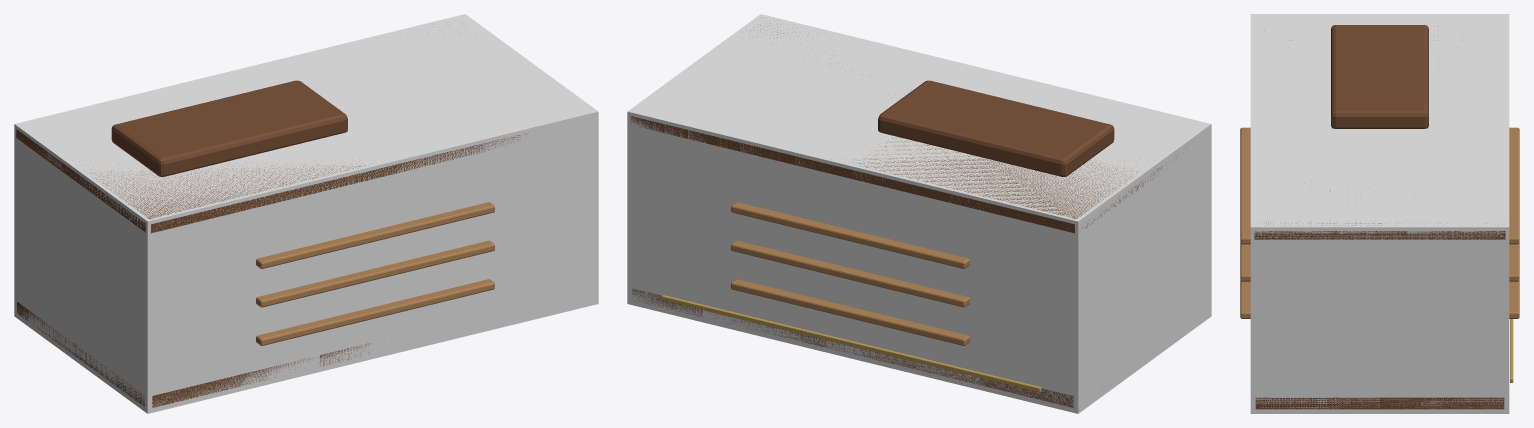
Rendered from luxury.glb.
The picture shows the model from 3 angles, left to right: view 1: azimuth 30°, elevation 25°; view 2: azimuth 150°, elevation 25°; view 3: azimuth 270°, elevation 25°; orthographic projection. The views are drawn at different scales.
Visible parts, largest first — view 1: COL_CHECKOUT_ISLANDS_LUXURY, CheckoutIsland_RaisedTillDeck.001, CheckoutIsland_Top.003, Island_ServiceShelf_1_1.002, Island_ServiceShelf_1_0.003, Island_ServiceShelf_1_2, CheckoutIsland_Base.003; view 2: COL_CHECKOUT_ISLANDS_LUXURY, CheckoutIsland_RaisedTillDeck.001, CheckoutIsland_Top.003, Island_ServiceShelf_-1_1.002, Island_ServiceShelf_-1_0.003, Island_ServiceShelf_-1_2, CheckoutIsland_Base.003, CheckoutIsland_BrassToeKick; view 3: COL_CHECKOUT_ISLANDS_LUXURY, CheckoutIsland_RaisedTillDeck.001, CheckoutIsland_Base.003, CheckoutIsland_Top.003, Island_ServiceShelf_-1_2, Island_ServiceShelf_1_2, Island_ServiceShelf_-1_0.003, Island_ServiceShelf_-1_1.002, Island_ServiceShelf_1_0.003, Island_ServiceShelf_1_1.002.
Boxes of the visible parts, x1,y1,x2,y2 form: COL_CHECKOUT_ISLANDS_LUXURY: [14, 14, 598, 413]; CheckoutIsland_RaisedTillDeck.001: [111, 80, 347, 176]; CheckoutIsland_Top.003: [16, 22, 524, 233]; Island_ServiceShelf_1_1.002: [256, 240, 494, 307]; Island_ServiceShelf_1_0.003: [256, 279, 494, 345]; Island_ServiceShelf_1_2: [256, 202, 494, 268]; CheckoutIsland_Base.003: [17, 302, 369, 407]; COL_CHECKOUT_ISLANDS_LUXURY: [627, 14, 1211, 413]; CheckoutIsland_RaisedTillDeck.001: [878, 80, 1114, 176]; CheckoutIsland_Top.003: [630, 18, 1186, 233]; Island_ServiceShelf_-1_1.002: [731, 240, 969, 307]; Island_ServiceShelf_-1_0.003: [731, 279, 969, 345]; Island_ServiceShelf_-1_2: [731, 202, 969, 268]; CheckoutIsland_Base.003: [632, 288, 1102, 407]; CheckoutIsland_BrassToeKick: [661, 295, 1041, 392]; COL_CHECKOUT_ISLANDS_LUXURY: [1250, 14, 1509, 413]; CheckoutIsland_RaisedTillDeck.001: [1331, 25, 1428, 128]; CheckoutIsland_Base.003: [1255, 397, 1504, 409]; CheckoutIsland_Top.003: [1254, 180, 1505, 239]; Island_ServiceShelf_-1_2: [1509, 127, 1519, 244]; Island_ServiceShelf_1_2: [1240, 127, 1250, 244]; Island_ServiceShelf_-1_0.003: [1509, 280, 1519, 318]; Island_ServiceShelf_-1_1.002: [1509, 243, 1519, 281]; Island_ServiceShelf_1_0.003: [1240, 280, 1250, 318]; Island_ServiceShelf_1_1.002: [1240, 243, 1250, 281].
Size of the model in its own units: 2.62 by 1.17 by 1.45.
